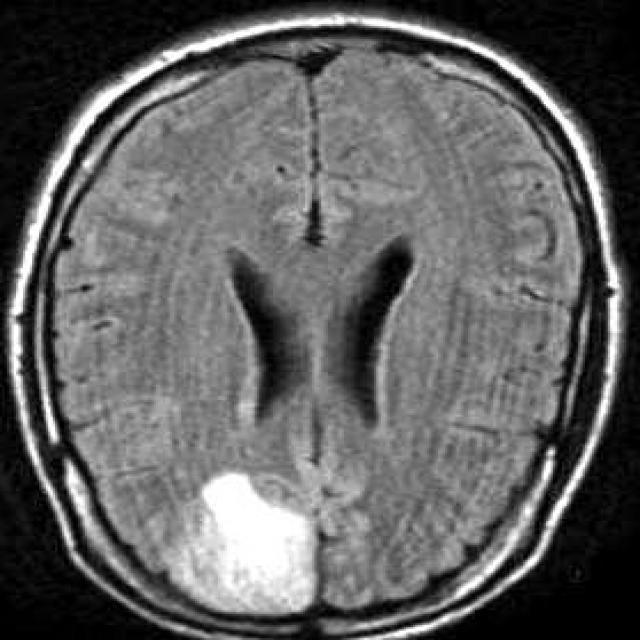tumor: (165, 473, 317, 616)
